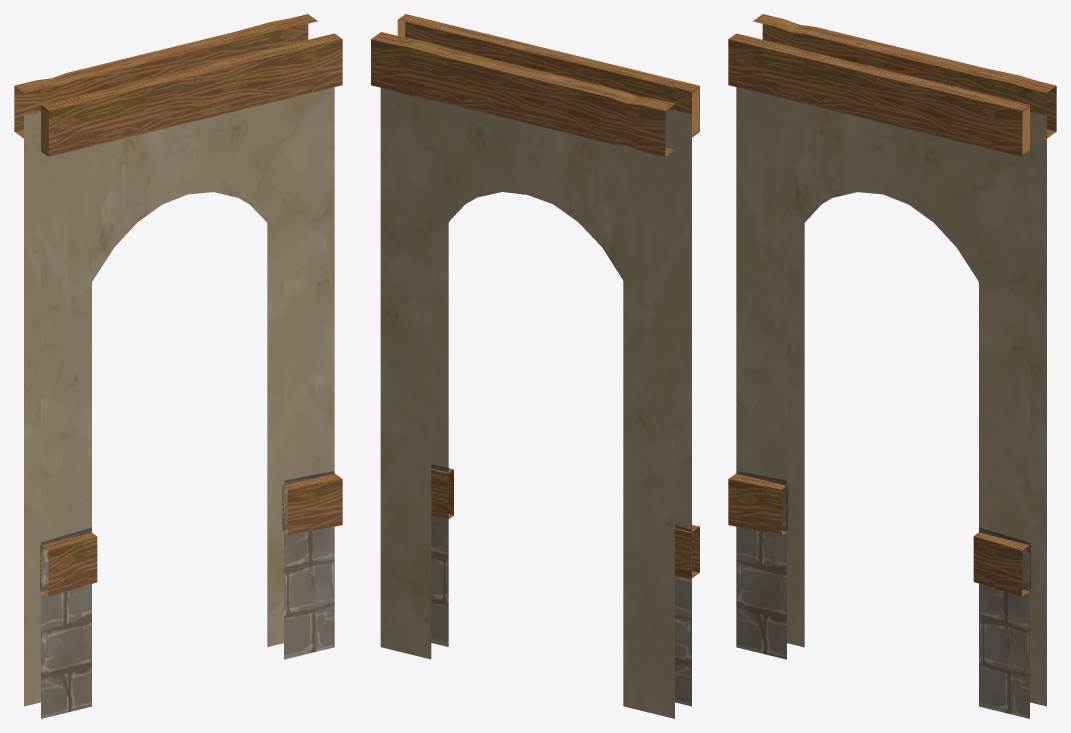
The model's file is med-reboco-porta.gltf.
The picture shows the model from 3 angles, left to right: view 1: azimuth 30°, elevation 25°; view 2: azimuth 150°, elevation 25°; view 3: azimuth 330°, elevation 25°; orthographic projection.
Visible parts, largest first — view 1: Wall_Plaster_Door_Round; view 2: Wall_Plaster_Door_Round; view 3: Wall_Plaster_Door_Round.
Boxes of the visible parts, bbox=[...] form: Wall_Plaster_Door_Round: bbox=[14, 14, 342, 718]; Wall_Plaster_Door_Round: bbox=[371, 14, 699, 718]; Wall_Plaster_Door_Round: bbox=[728, 14, 1056, 718].
Size of the model in its own units: 1 by 2 by 0.2032.
Materials: 3 (3 with a texture image).
